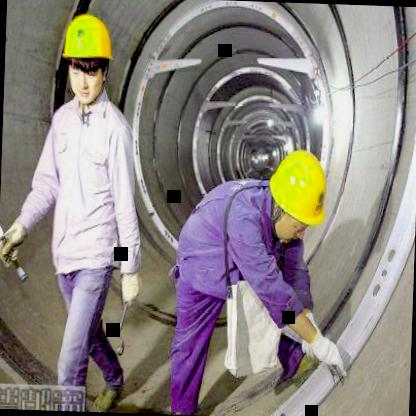helmet: (258, 141, 329, 246), (53, 5, 121, 110)
